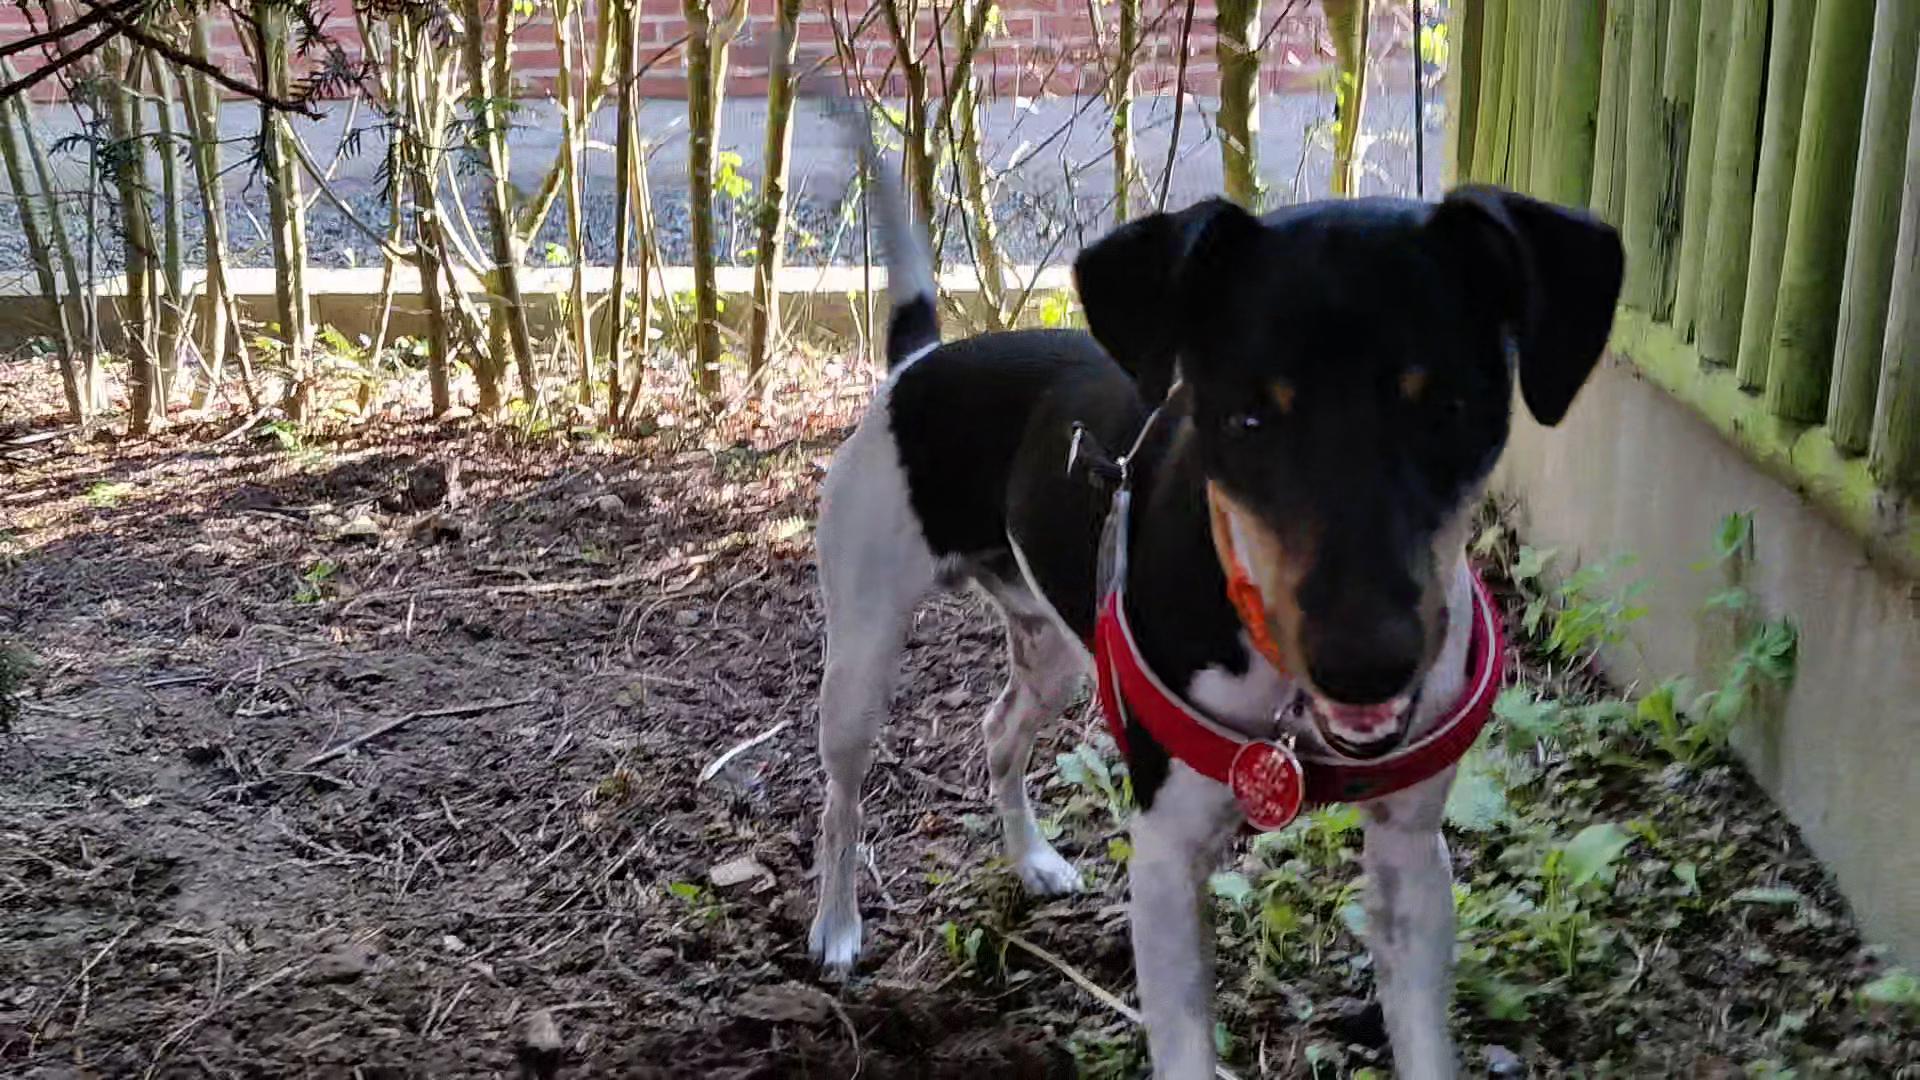Dog: (715, 13, 1646, 1079)
